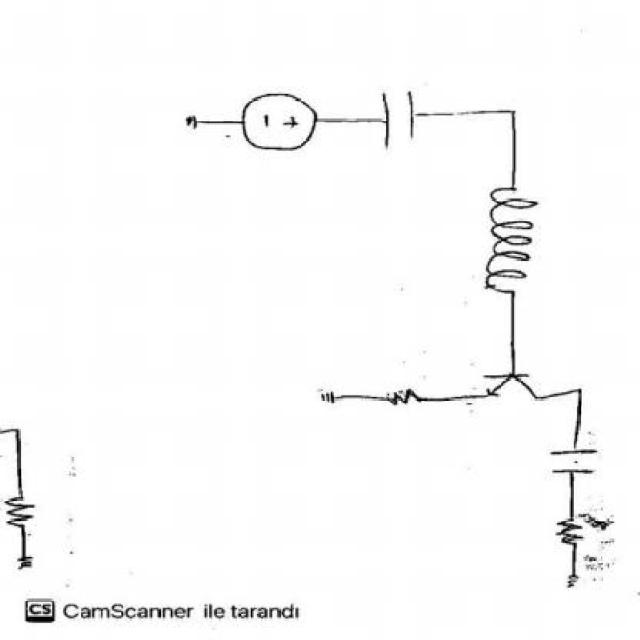capacitor: (373, 77, 420, 164), (550, 444, 604, 488)
ground: (308, 367, 342, 415), (556, 565, 594, 602), (176, 101, 202, 144)
inductor: (478, 178, 544, 301)
resistor: (554, 508, 596, 557), (381, 374, 431, 415)
transistor: (474, 364, 544, 408)
voltage_source: (236, 84, 324, 163)
